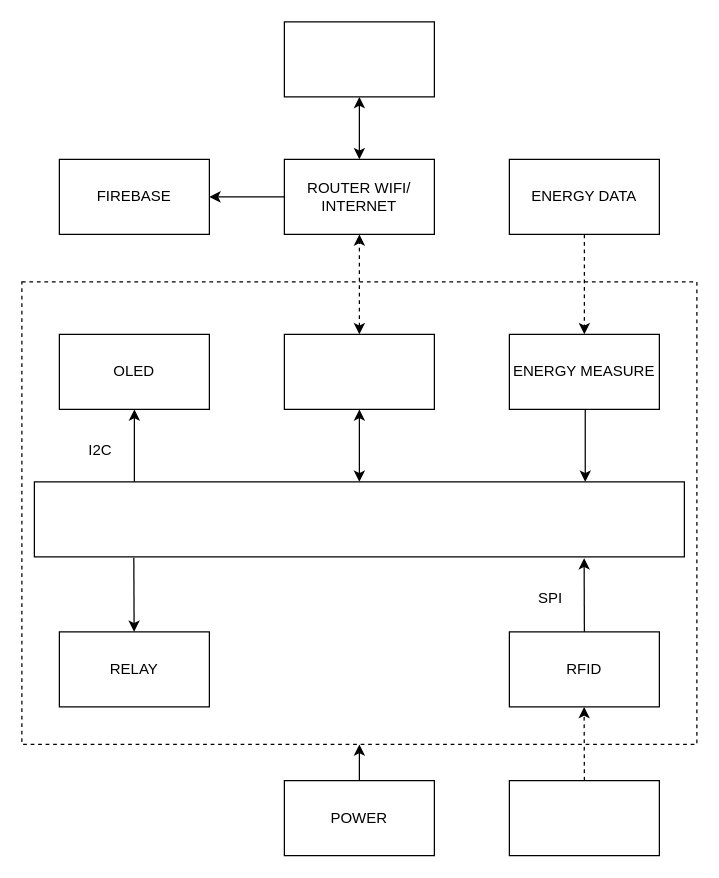
The diagram is 719 pixels wide and 878 high, and some of its shapes have lost their labels. The centre of each missing label's shape, as x and y in pixels:
"ESP32" belongs at (x=358, y=519).
"MOBILE APP" belongs at (x=358, y=59).
"TAG/CARD" belongs at (x=583, y=817).
"WIFI" belongs at (x=358, y=371).
